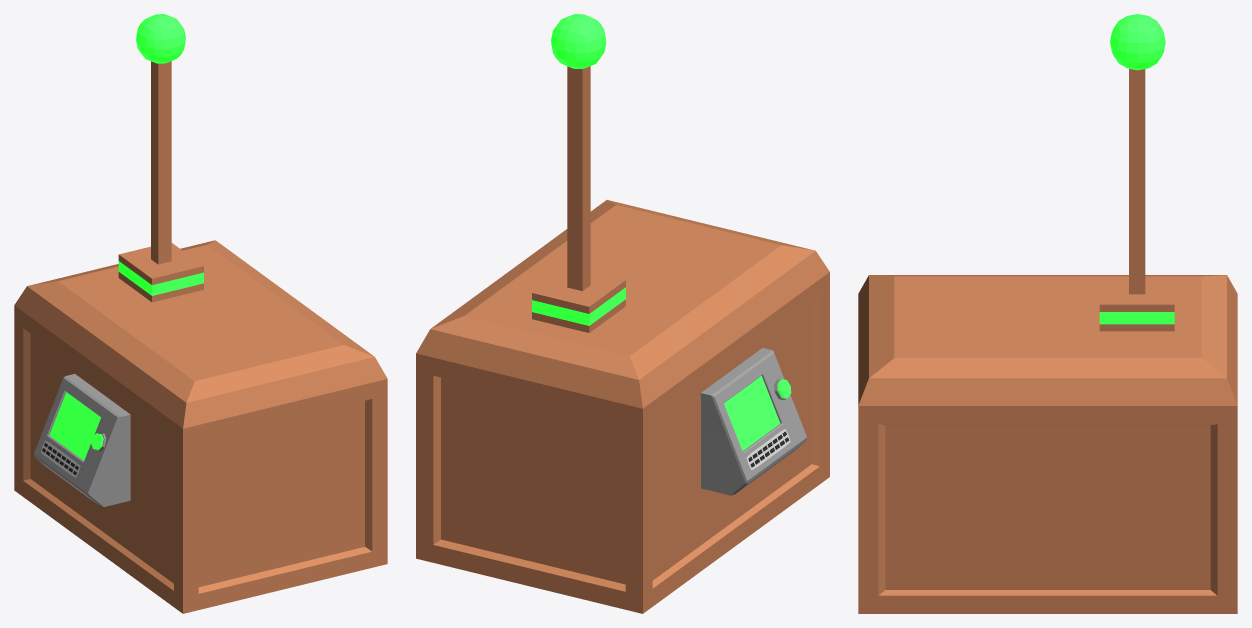
File: spin_reactor_computer.glb
3 renders of one model, left to right at view 1: azimuth 30°, elevation 25°; view 2: azimuth 150°, elevation 25°; view 3: azimuth 270°, elevation 25°, orthographic. The views are drawn at different scales.
Parts seen in each view (by area): view 1: Cube, Screen, ElectricalHook, Light.001; view 2: Cube, Screen, ElectricalHook, Light.001; view 3: Cube, ElectricalHook, Light.001.
Part boxes in pixels (left/top/right/bottom): Cube: left=14, top=61, right=387, bottom=613; Screen: left=34, top=374, right=130, bottom=506; ElectricalHook: left=136, top=14, right=185, bottom=63; Light.001: left=118, top=261, right=203, bottom=295; Cube: left=416, top=66, right=829, bottom=613; Screen: left=700, top=348, right=807, bottom=495; ElectricalHook: left=551, top=14, right=606, bottom=69; Light.001: left=532, top=287, right=625, bottom=325; Cube: left=858, top=69, right=1237, bottom=613; ElectricalHook: left=1110, top=14, right=1165, bottom=70; Light.001: left=1099, top=312, right=1174, bottom=324.
Bounding box in the file's own units: 2.04 × 3.88 × 2.47.
